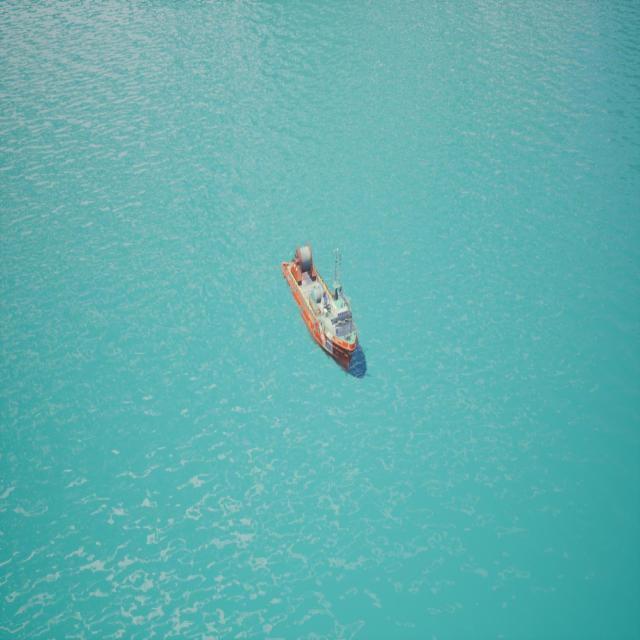tug boat: (273, 232, 376, 383)
